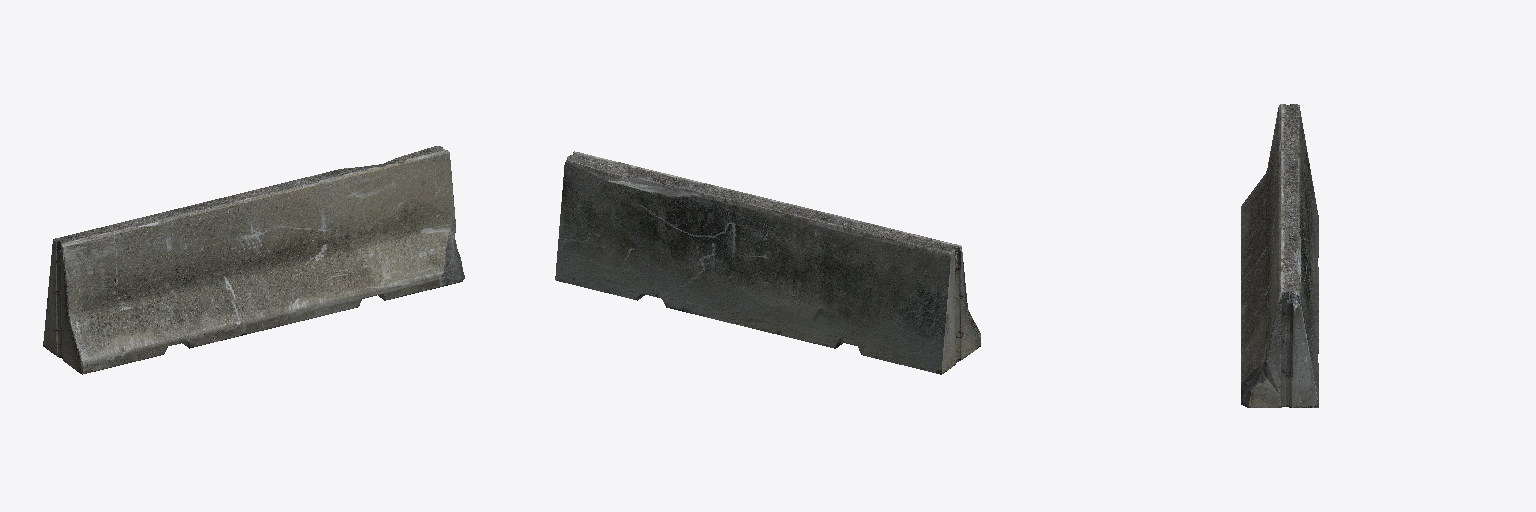
The picture shows the model from 3 angles: view 1: azimuth 30°, elevation 25°; view 2: azimuth 150°, elevation 25°; view 3: azimuth 270°, elevation 25°; orthographic projection.
Parts seen in each view (by area): view 1: RoadBlockade_02; view 2: RoadBlockade_02; view 3: RoadBlockade_02.
Boxes of the visible parts, box(x1,y1,x2,y2) form: RoadBlockade_02: box(43, 146, 464, 374); RoadBlockade_02: box(555, 151, 980, 374); RoadBlockade_02: box(1241, 104, 1318, 407).
Bounding box in the file's own units: 2.88 × 0.8 × 0.4903.
1 materials, 1 textured.